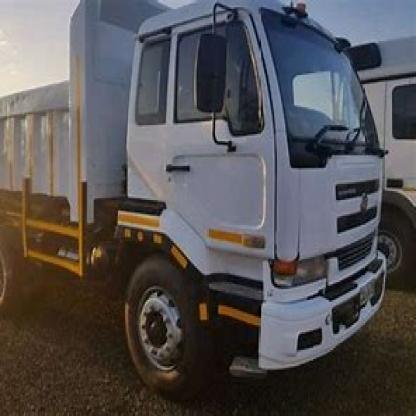dump_truck: (3, 4, 385, 405)
